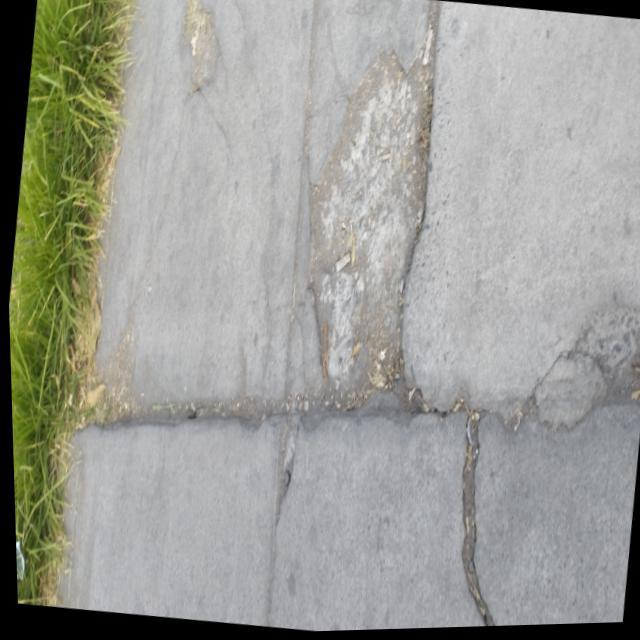hole: (284, 34, 451, 416)
